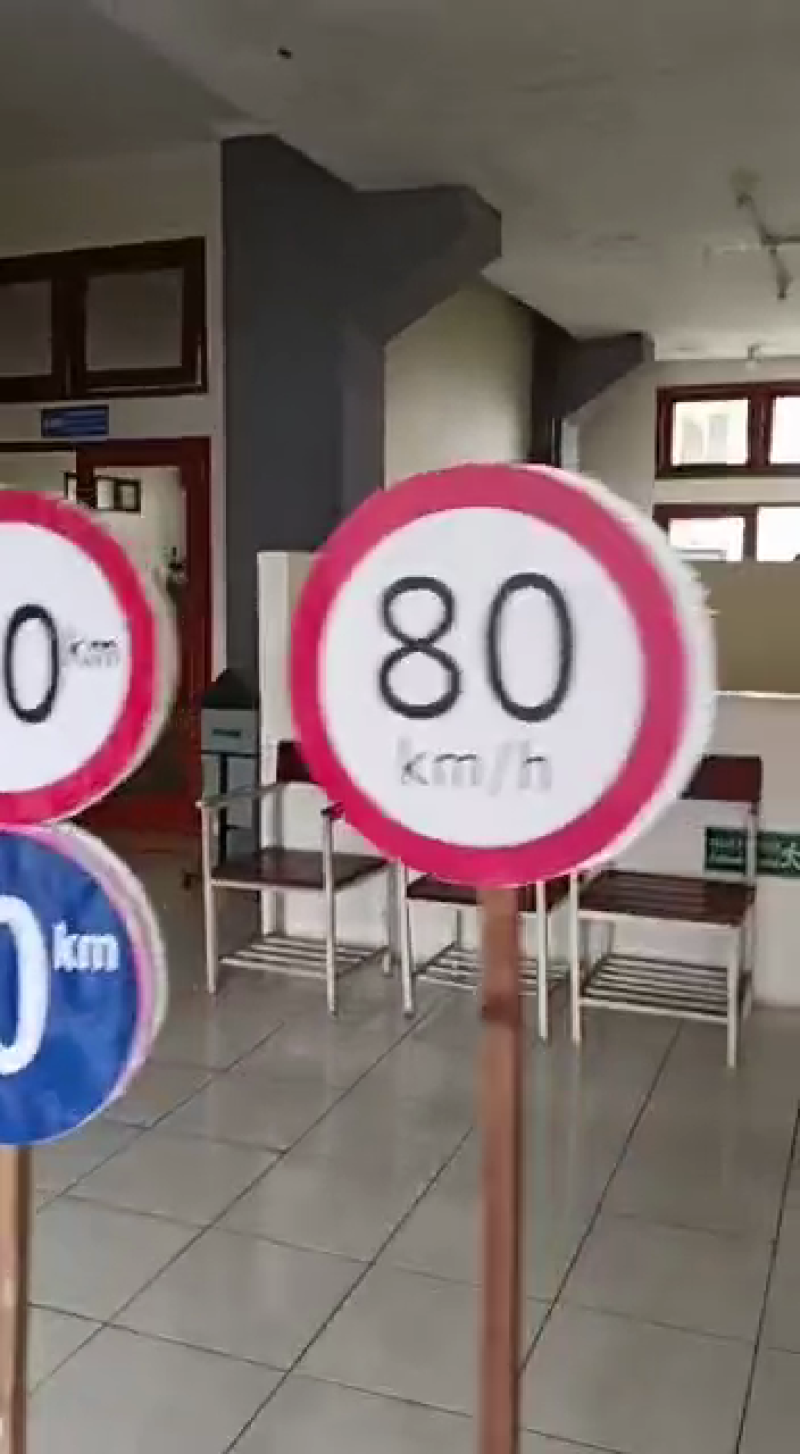batas maksimal 80kmperjam: (301, 469, 673, 889)
